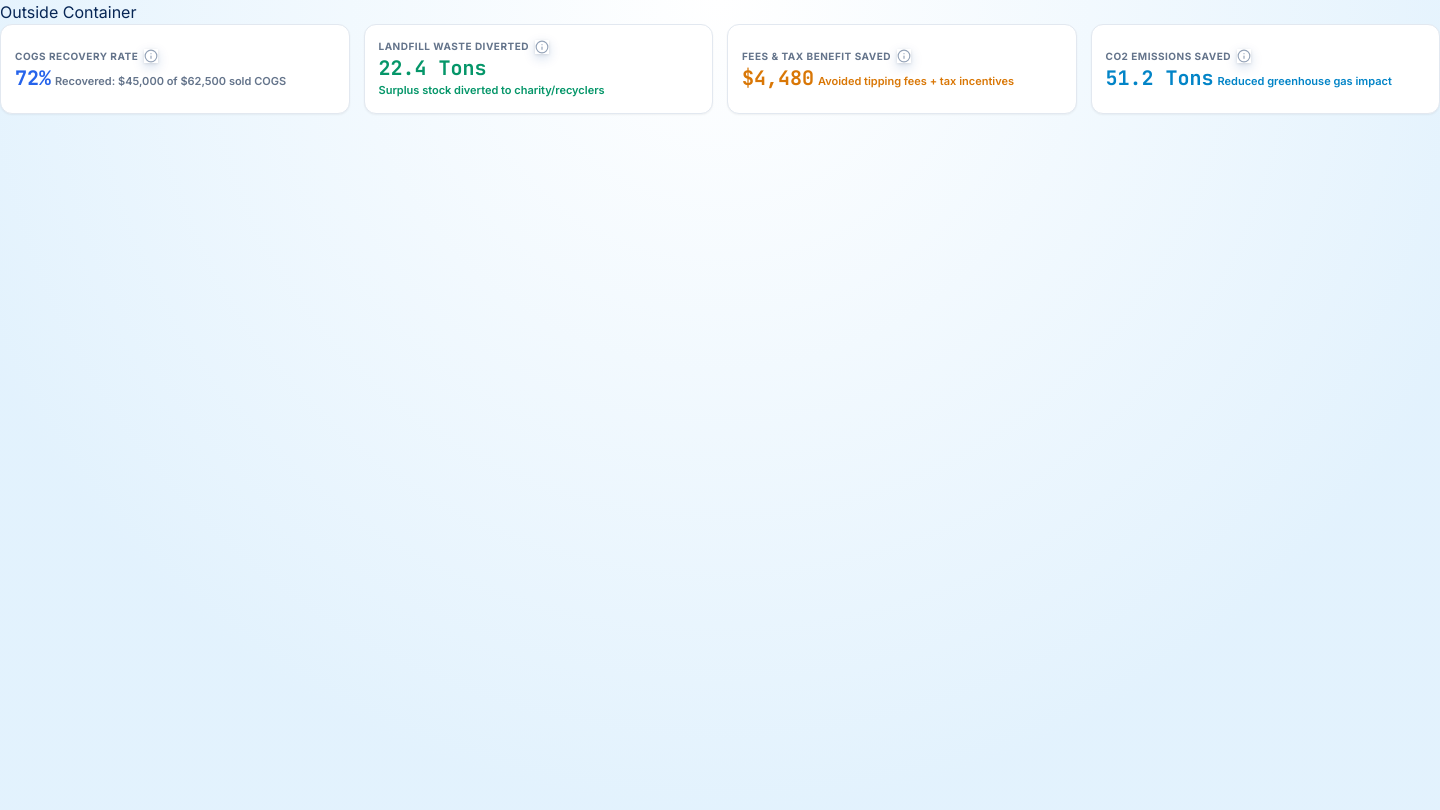
SummaryMetrics — Recovery & Sustainability Panel Metric Cards (Ticket 01) › dismisses active popover on outside click and close button click
This screenshot has width=1440, height=810.
Click the button named "more information about cogs recovery rate" at point(151, 56), box left=144, top=49, right=158, bottom=63
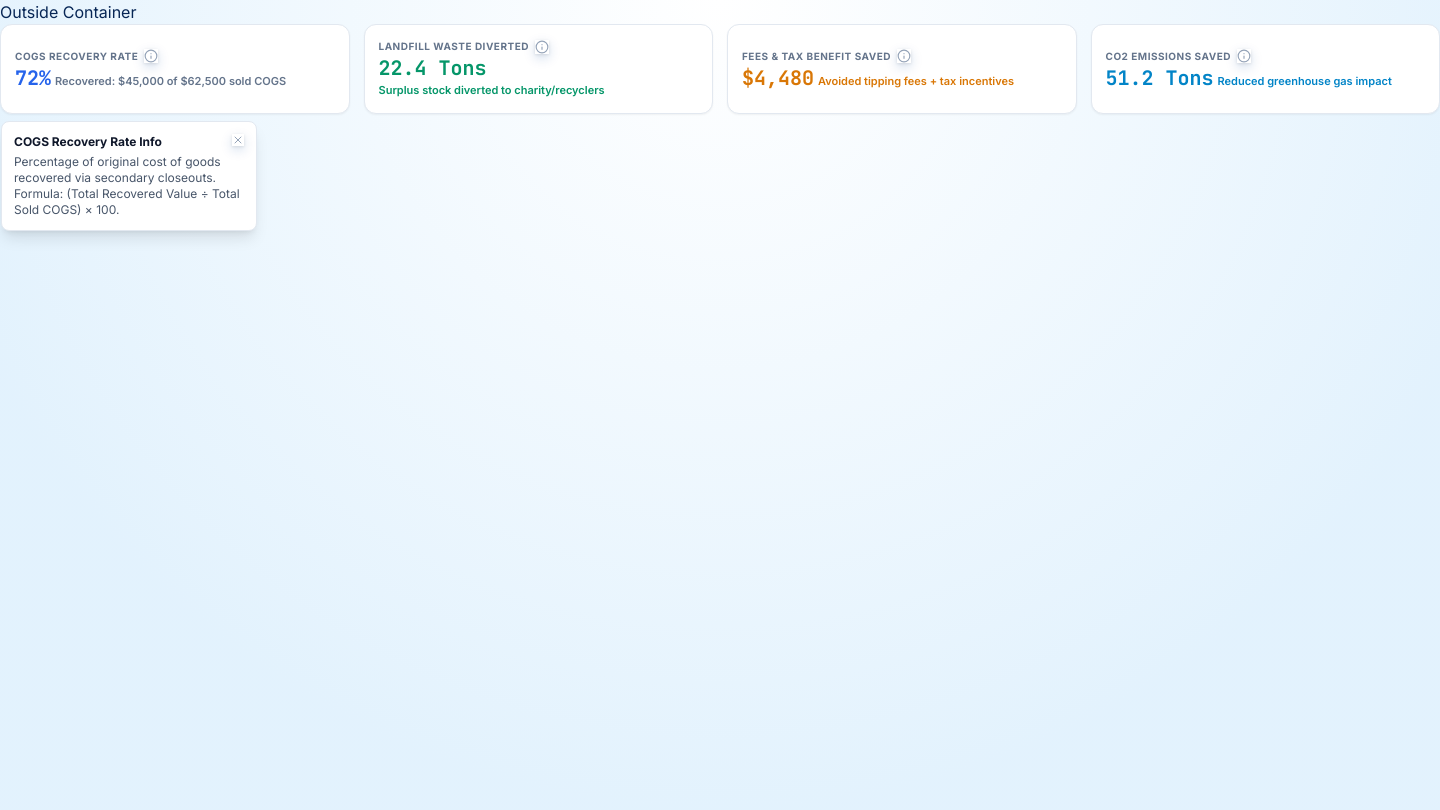
Check: the dialog with test id "info-overlay" is shown, box left=1, top=120, right=257, bottom=230
# Click Close button
Click the button named "close modal" at point(238, 140), box left=232, top=134, right=244, bottom=146
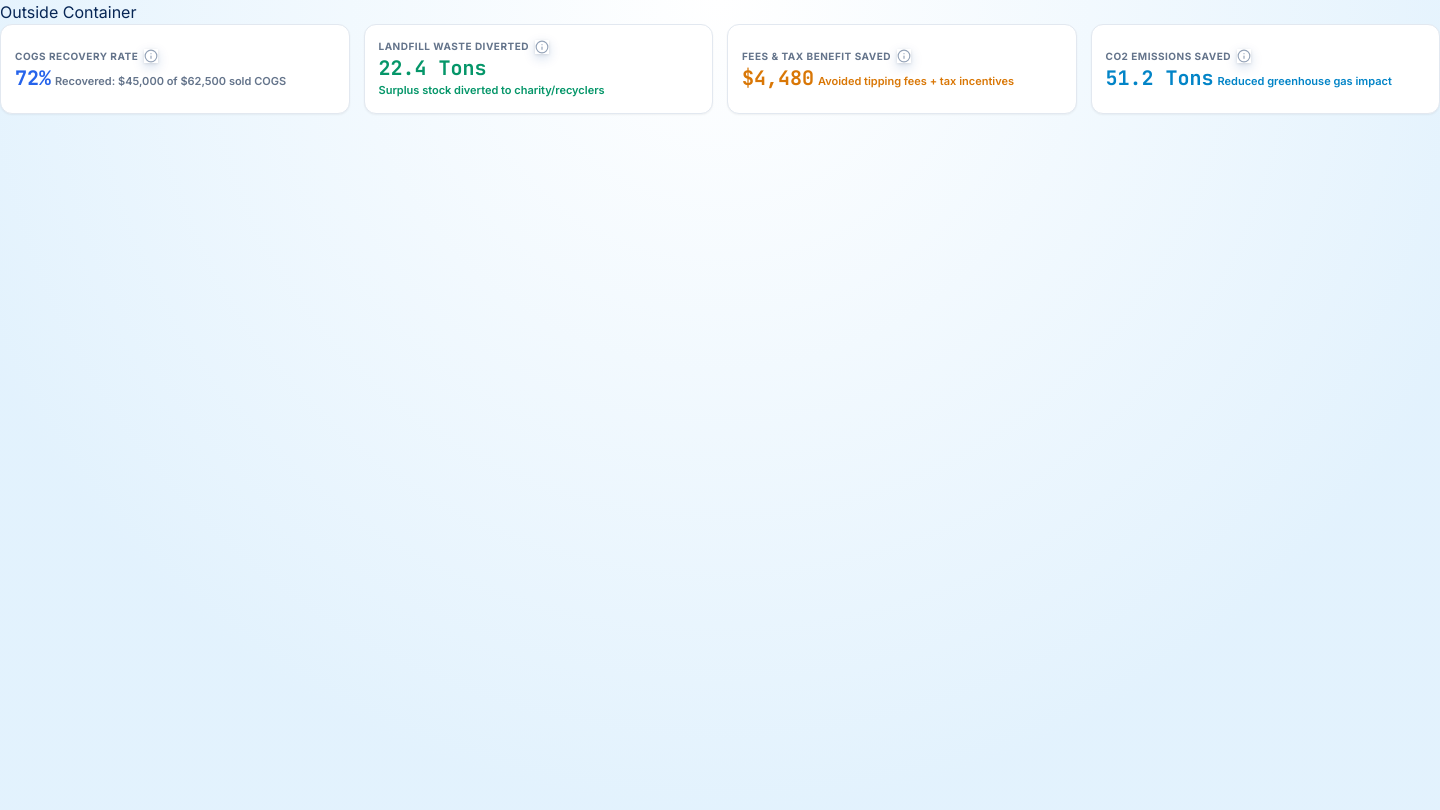
Check: the dialog with test id "info-overlay" is gone
# Open again and click outside
Click the button named "more information about cogs recovery rate" at point(151, 56), box left=144, top=49, right=158, bottom=63
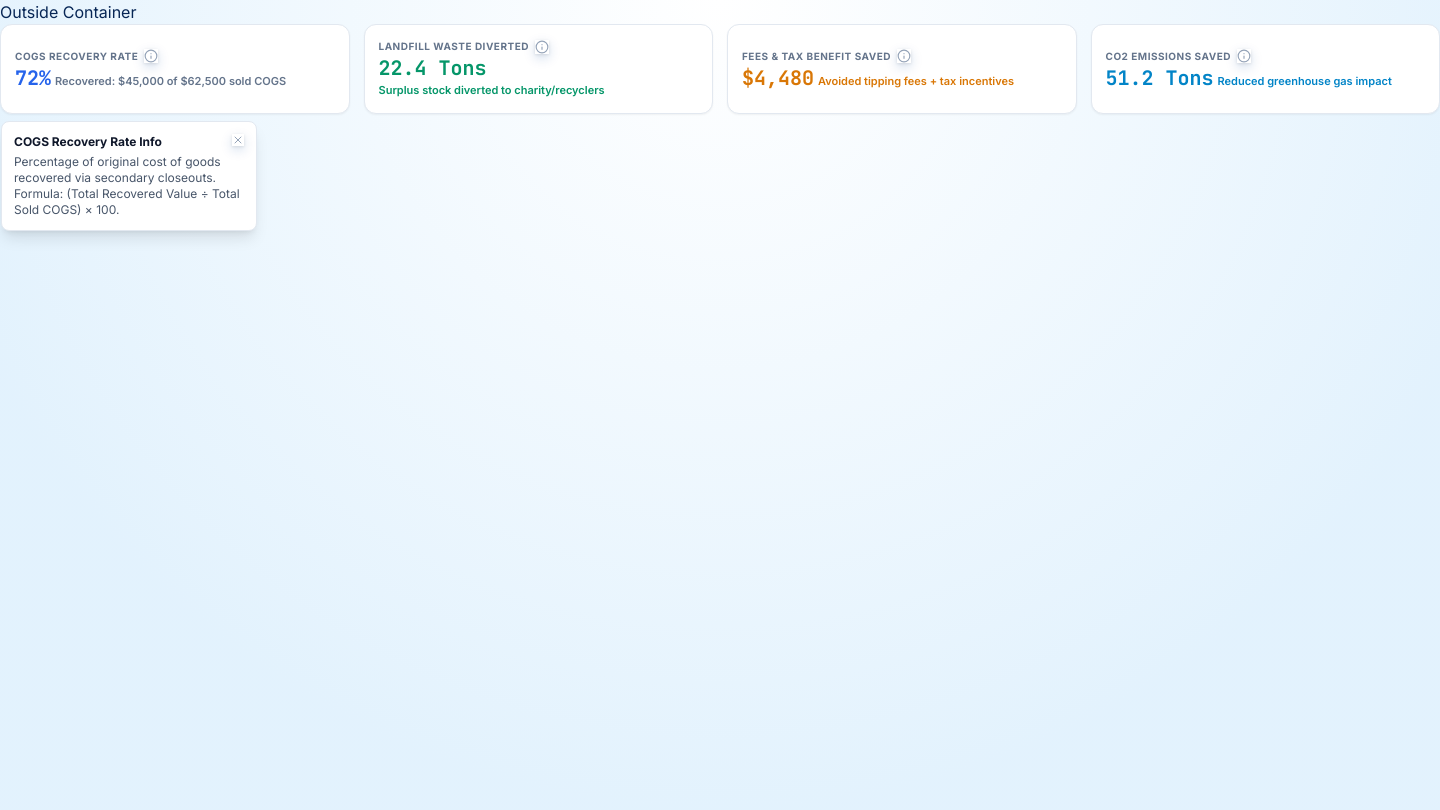
Check: the dialog with test id "info-overlay" is shown, box left=1, top=120, right=257, bottom=230
Press the mouse on the text with test id "outside-area" at point(68, 12), box left=0, top=2, right=136, bottom=22
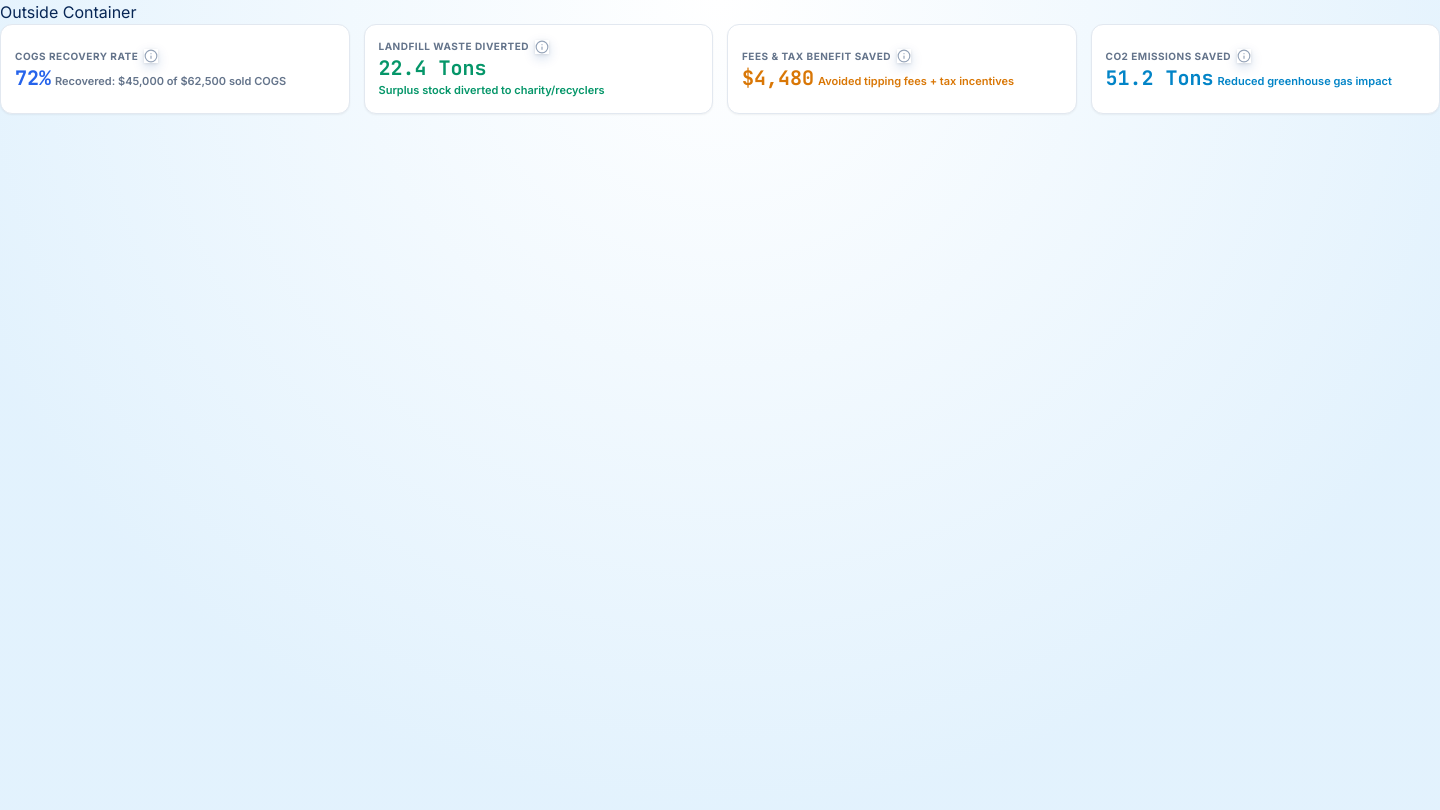
Check: the dialog with test id "info-overlay" is gone
